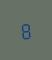eight: (19, 20, 31, 39)
